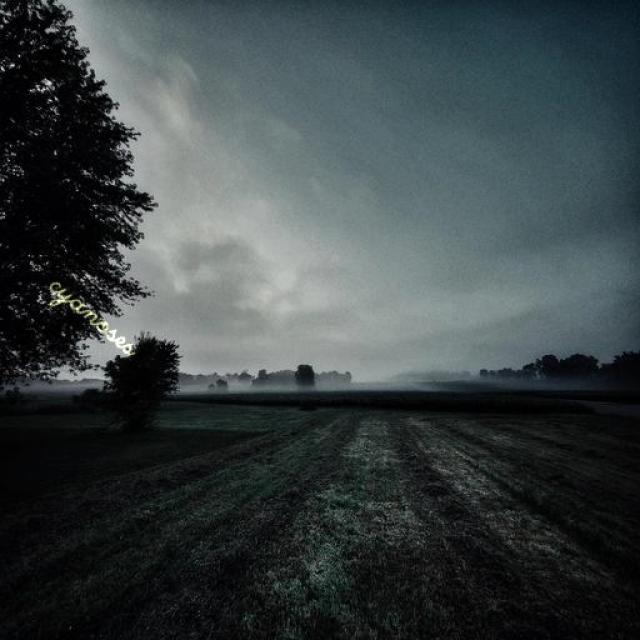watermark: (41, 264, 153, 363)
